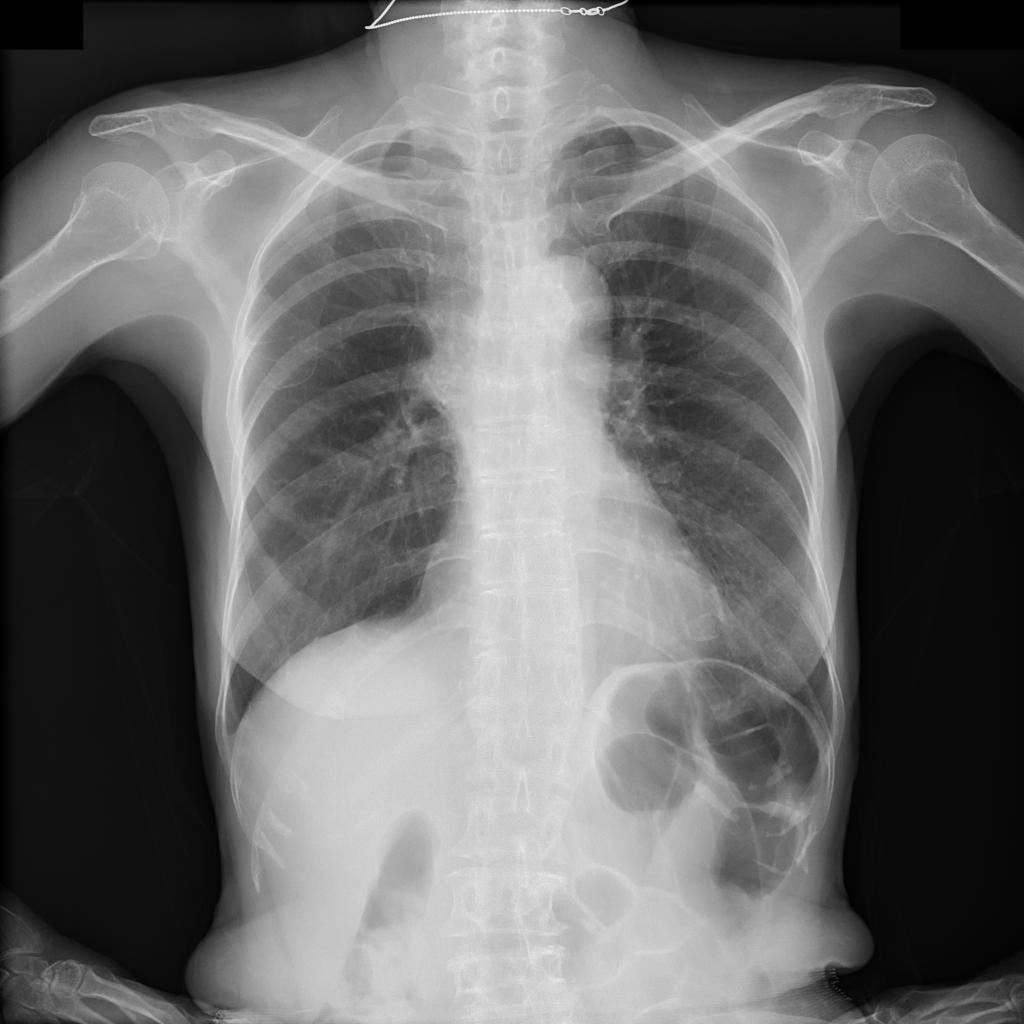Nodule: (420, 303, 485, 428)
